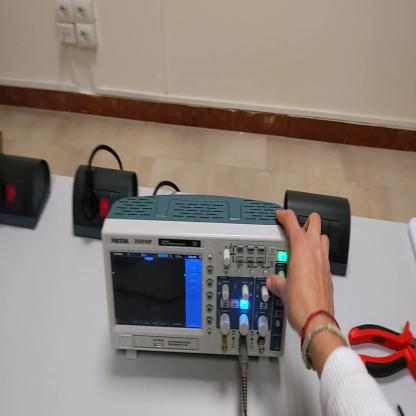hand: (268, 207, 337, 338)
oscilloscope: (104, 196, 290, 365)
pliers: (351, 312, 416, 382)
screwdriver-: (398, 405, 407, 415)
socket: (72, 162, 141, 242), (2, 154, 54, 232)
